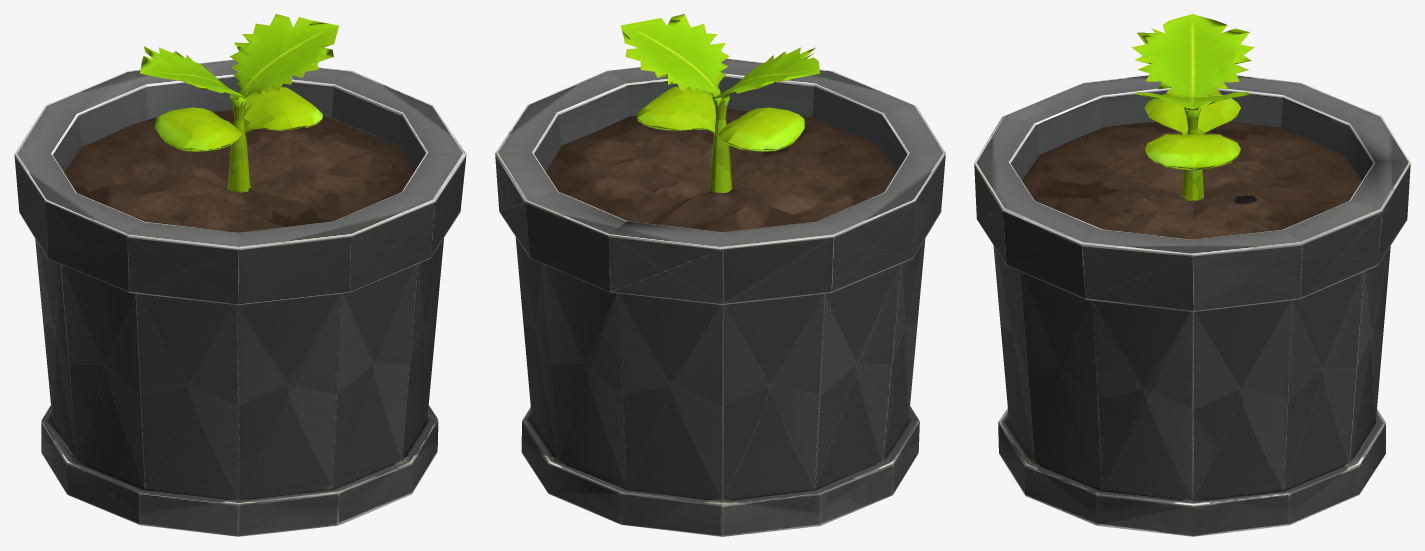
Rendered from sprout.glb.
The picture shows the model from 3 angles, left to right: view 1: azimuth 30°, elevation 25°; view 2: azimuth 150°, elevation 25°; view 3: azimuth 270°, elevation 25°; orthographic projection. The views are drawn at different scales.
Bounding box in the file's own units: 1 × 0.9961 × 1.
1 material, 1 textured.
